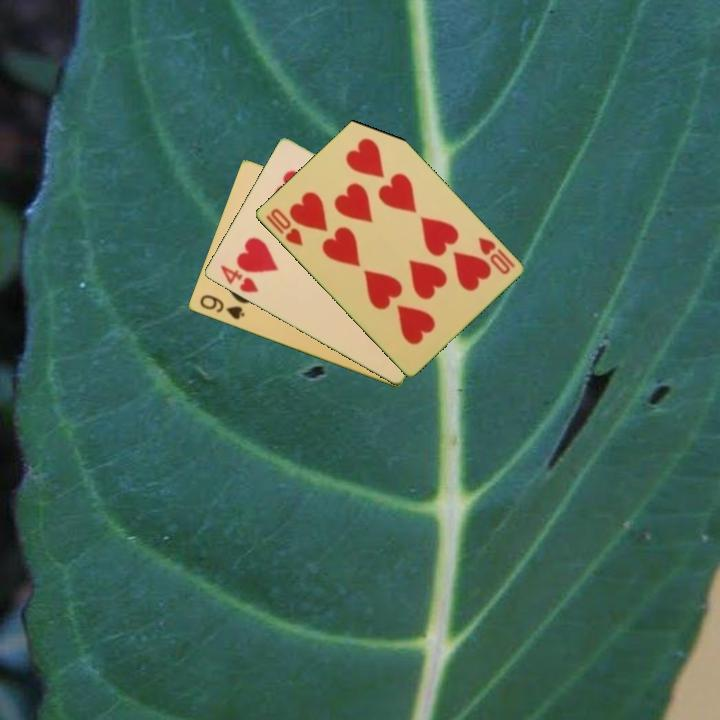10h: (262, 205, 306, 249), (474, 233, 518, 277)
4h: (216, 262, 261, 296)
9s: (196, 291, 247, 323)
